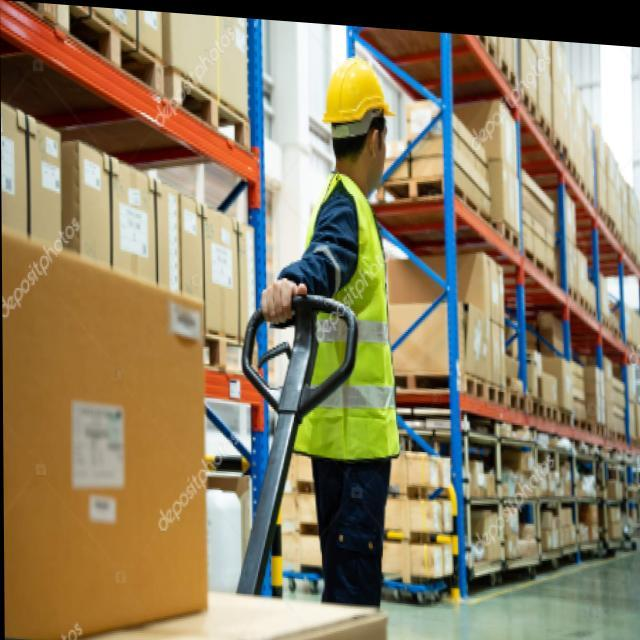helmet: (317, 50, 401, 193)
vest: (289, 167, 408, 470)
